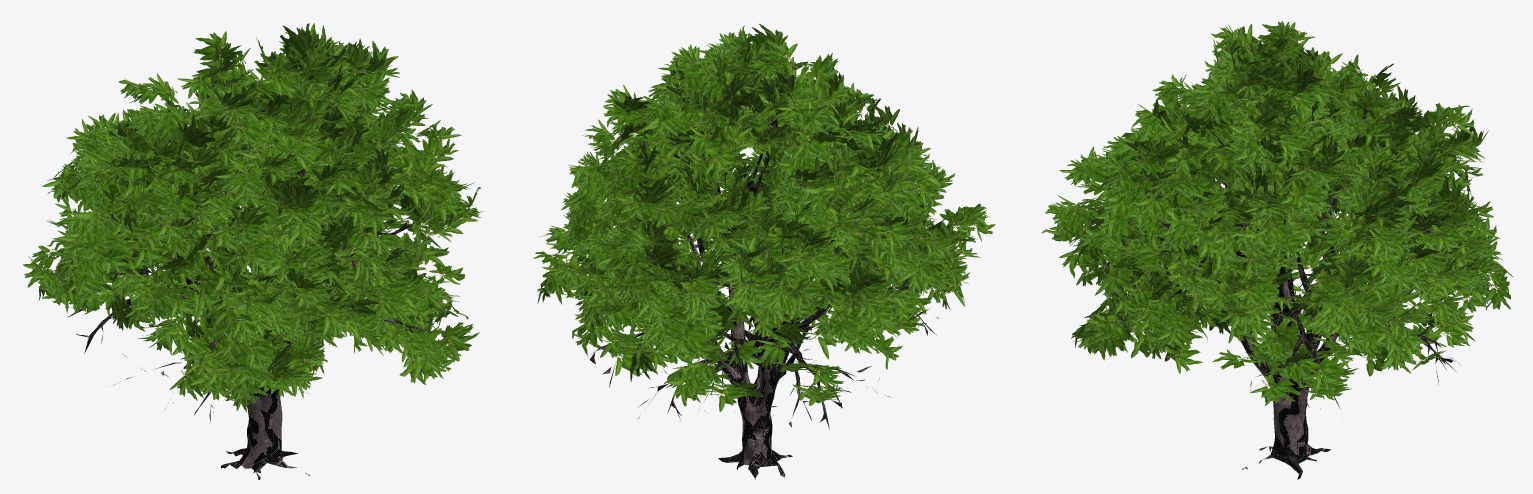
Rendered from neem.glb.
3 renders of one model, left to right at view 1: azimuth 30°, elevation 25°; view 2: azimuth 150°, elevation 25°; view 3: azimuth 270°, elevation 25°, orthographic. The views are drawn at different scales.
Visible parts, largest first — view 1: leaves, trunk; view 2: leaves, trunk; view 3: leaves, trunk.
Boxes of the visible parts, x1,y1,x2,y2 form: leaves: (23,23,484,412); trunk: (67,77,445,479); leaves: (533,24,995,411); trunk: (570,65,945,479); leaves: (1041,21,1513,405); trunk: (1082,98,1466,479).
Bounding box in the file's own units: 6.92 × 7.11 × 7.04.
Materials: 2 (2 with a texture image).
